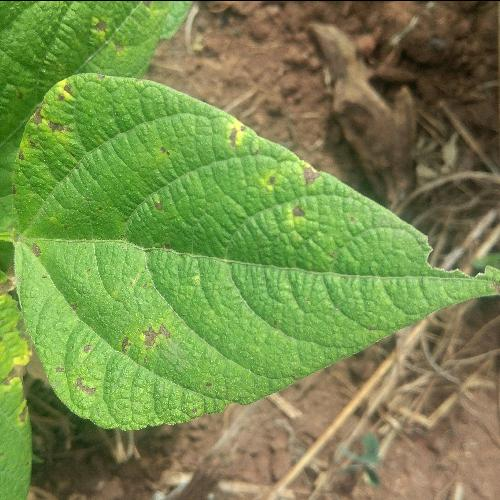hawar: (209, 88, 337, 311), (107, 272, 179, 404), (18, 70, 97, 172)
